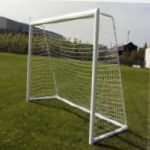goals: (26, 6, 129, 146)
